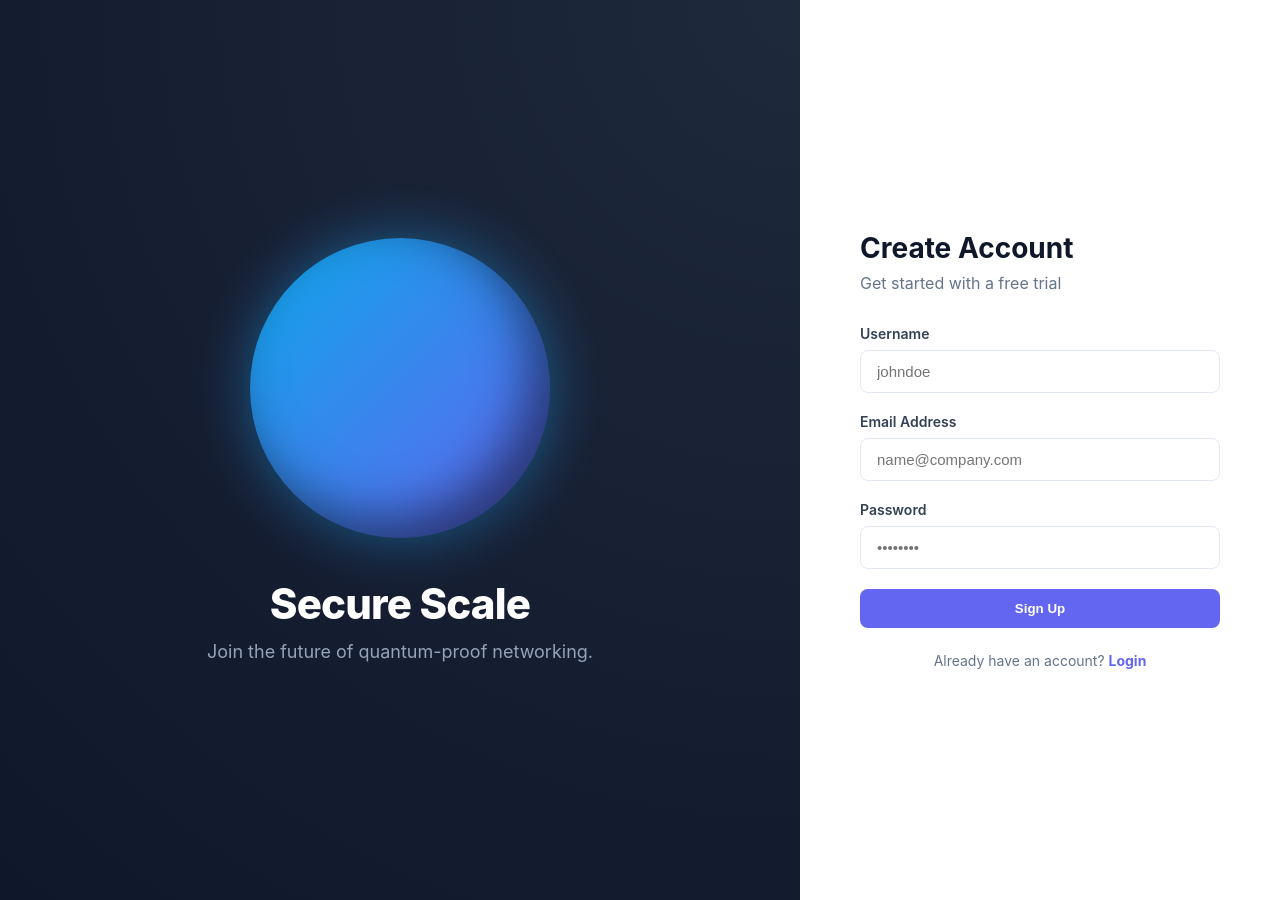
Test case: Signup Component › shows error if signup fails
Type "john" into the field with placeholder "johndoe" at (1040, 372), box [860,350,1220,393]
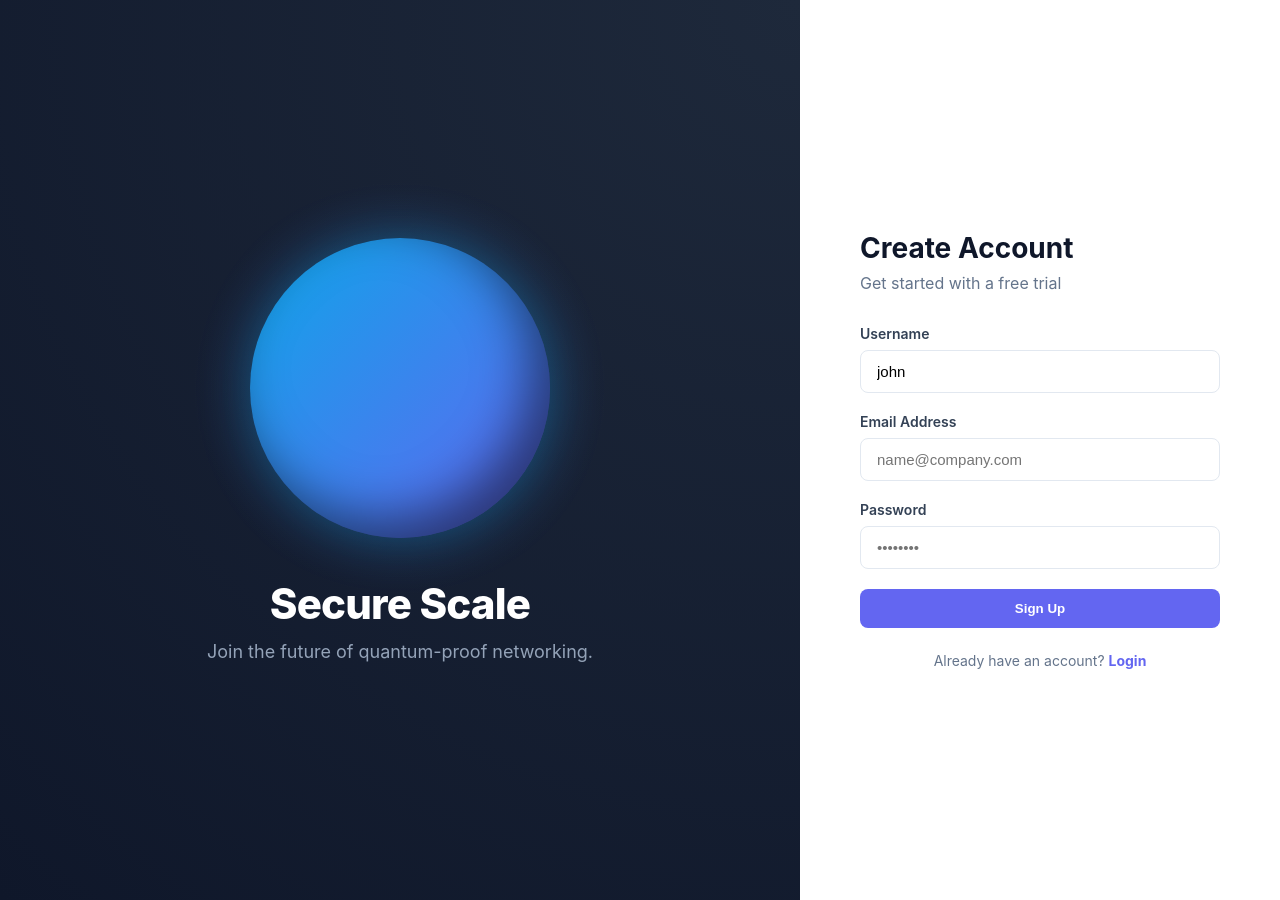
Type "test@mail.com" into the field with placeholder "name@company.com" at (1040, 460), box [860,438,1220,481]
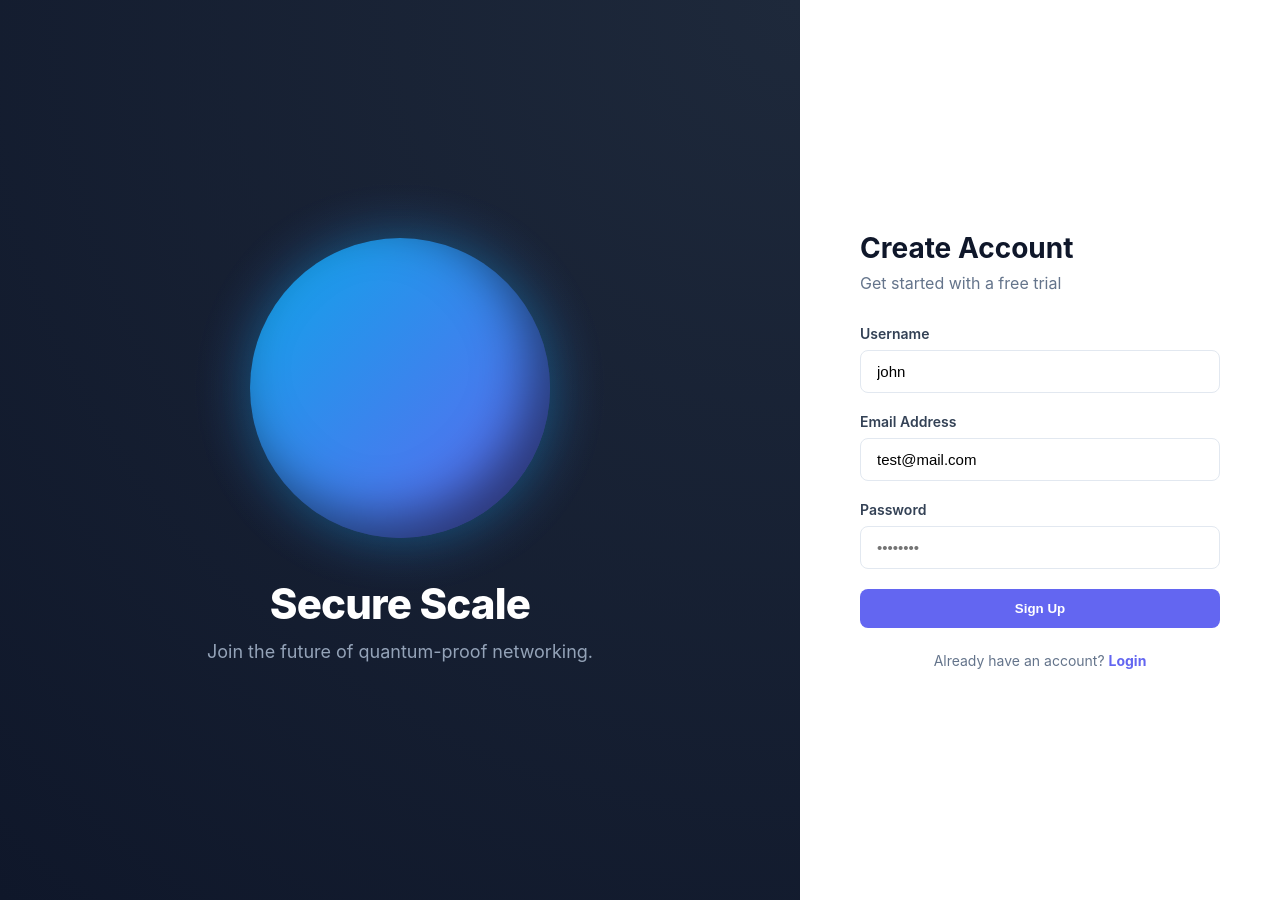
Type "password123" into the password field with placeholder "••••••••" at (1040, 548), box [860,526,1220,569]
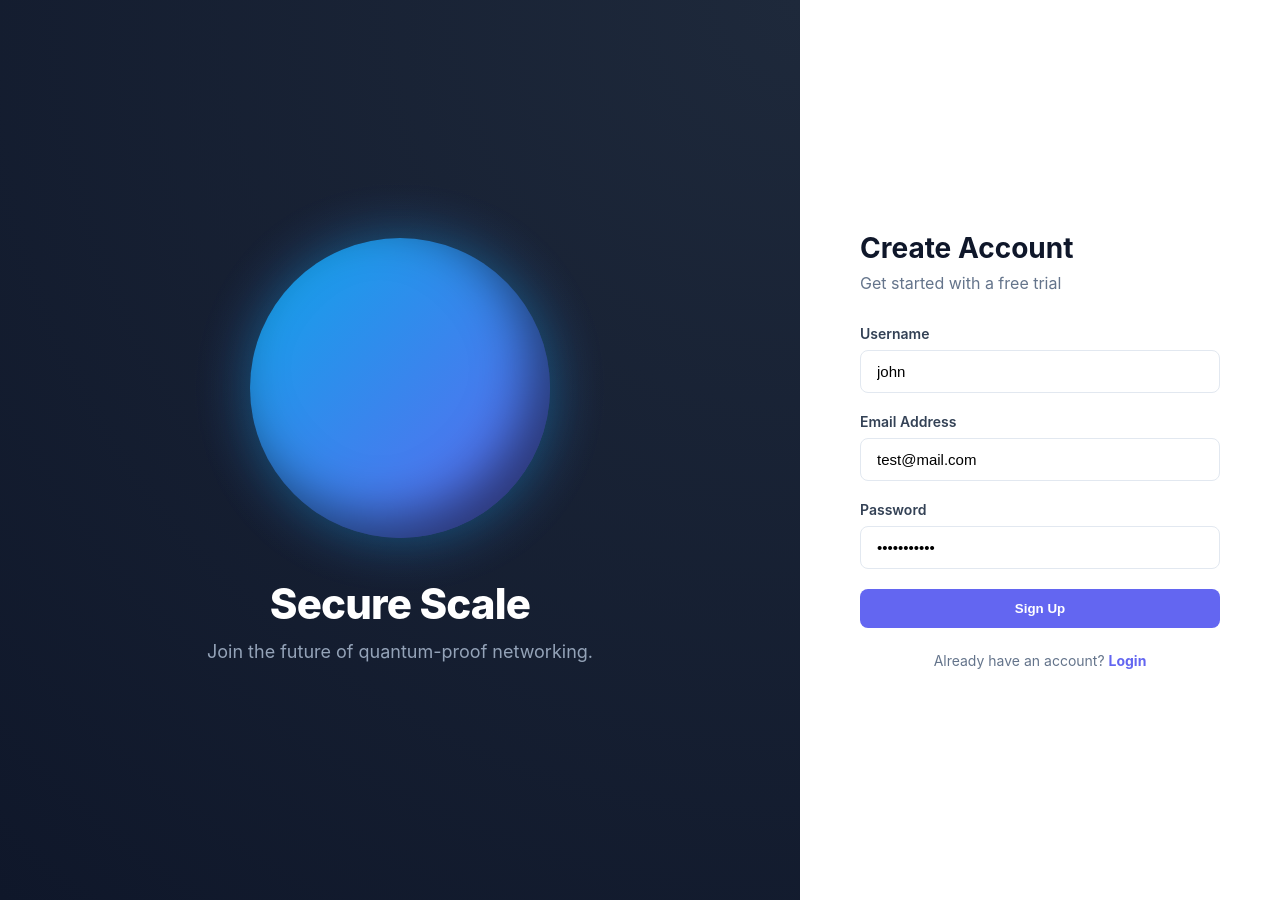
Click the button "Sign Up" at (1040, 608), box [860,589,1220,628]
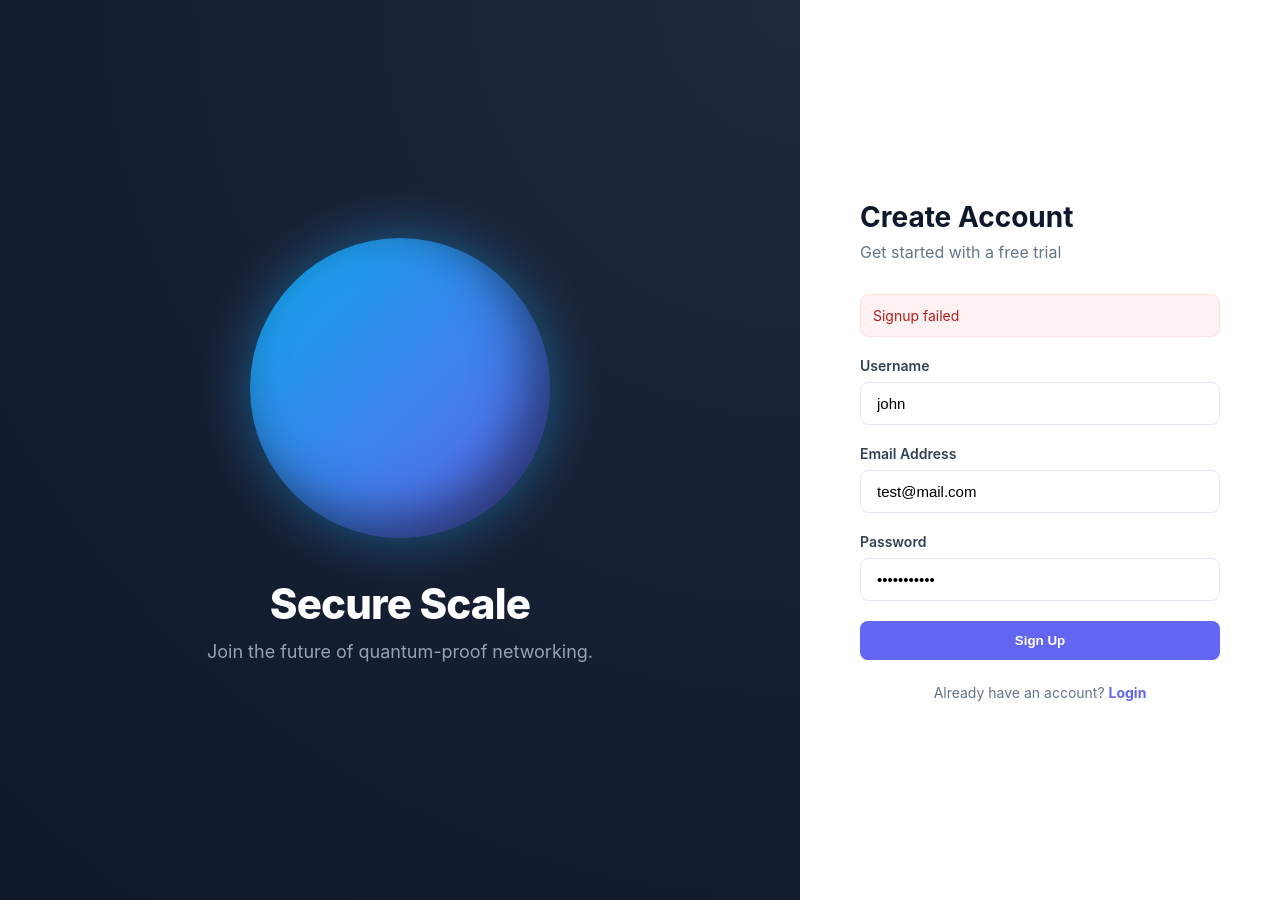
Expected: the text "Signup failed" is shown, [860,294,1220,336]
